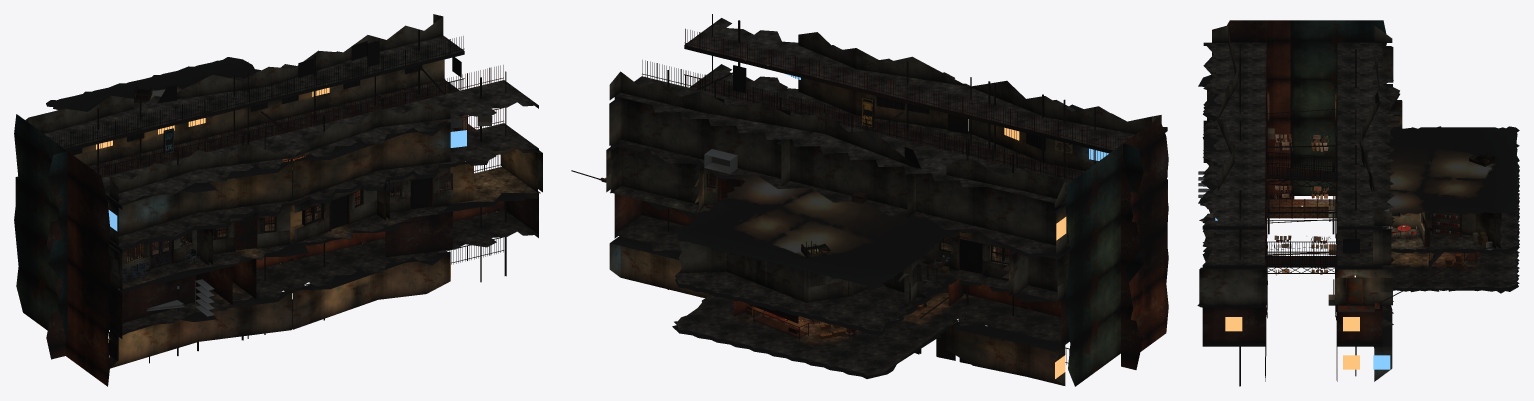
The model's file is shop.glb.
3 renders of one model, left to right at view 1: azimuth 30°, elevation 25°; view 2: azimuth 150°, elevation 25°; view 3: azimuth 270°, elevation 25°, orthographic. The views are drawn at different scales.
Parts seen in each view (by area): view 1: zf_Wall_Cream, zf_Floor_Tile, zf_Wall_Brick, zf_Wall_Teal, zf_Slab_Dark, zf_Steel_Dark, zf_Steel_RedPaint, z7_Slab_Dark, zf_Steel_Rust, zf_Door_Dark, zf_Pipe, zf_Win_Dark (+1 smaller); view 2: zf_Wall_Cream, zf_Floor_Tile, z7_Slab_Dark, zf_Wall_Brick, zf_Wall_Teal, z6_Floor_Tile, z7_Wall_Cream, zf_Steel_RedPaint, z7_Floor_Tile, zf_Slab_Dark, zf_Steel_Dark, zf_Door_Dark (+6 smaller); view 3: zf_Floor_Tile, z7_Slab_Dark, zf_Wall_Cream, zf_Wall_Teal, zf_Wall_Brick, z6_Floor_Tile, zf_Slab_Dark, zf_Steel_Dark, z7_Floor_Tile, zf_Steel_Rust, z7_Wall_Cream, z7_Steel_Dark (+9 smaller).
Boxes of the visible parts, x1,y1,x2,y2 form: zf_Wall_Cream: (15,14,542,368); zf_Floor_Tile: (44,35,540,335); zf_Wall_Brick: (46,150,538,386); zf_Wall_Teal: (14,114,67,344); zf_Slab_Dark: (16,51,542,338); zf_Steel_Dark: (48,36,503,338); zf_Steel_RedPaint: (87,65,503,208); z7_Slab_Dark: (46,57,260,111); zf_Steel_Rust: (69,65,475,269); zf_Door_Dark: (107,41,430,328); zf_Pipe: (97,30,506,363); zf_Win_Dark: (68,57,461,360); zf_Wall_Cream: (606,32,1167,385); zf_Floor_Tile: (610,18,1167,343); z7_Slab_Dark: (675,174,957,335); zf_Wall_Brick: (614,117,1168,369); zf_Wall_Teal: (1065,143,1143,386); z6_Floor_Tile: (676,295,967,375); z7_Wall_Cream: (678,229,961,306); zf_Steel_RedPaint: (684,28,1129,364); z7_Floor_Tile: (675,242,957,331); zf_Slab_Dark: (607,45,1167,351); zf_Steel_Dark: (642,60,1088,257); zf_Door_Dark: (712,97,982,363); zf_Floor_Tile: (1199,42,1399,328); z7_Slab_Dark: (1387,126,1519,254); zf_Wall_Cream: (1199,25,1402,381); zf_Wall_Teal: (1290,20,1386,195); zf_Wall_Brick: (1202,20,1382,343); z6_Floor_Tile: (1391,244,1519,288); zf_Slab_Dark: (1197,43,1402,346); zf_Steel_Dark: (1265,29,1337,381); z7_Floor_Tile: (1386,162,1519,250); zf_Steel_Rust: (1266,183,1449,312); z7_Wall_Cream: (1389,156,1501,248); z7_Steel_Dark: (1266,108,1336,214).
Bounding box in the file's own units: 40.06 × 17.99 × 27.01.
Materials: 137 (95 with a texture image).
